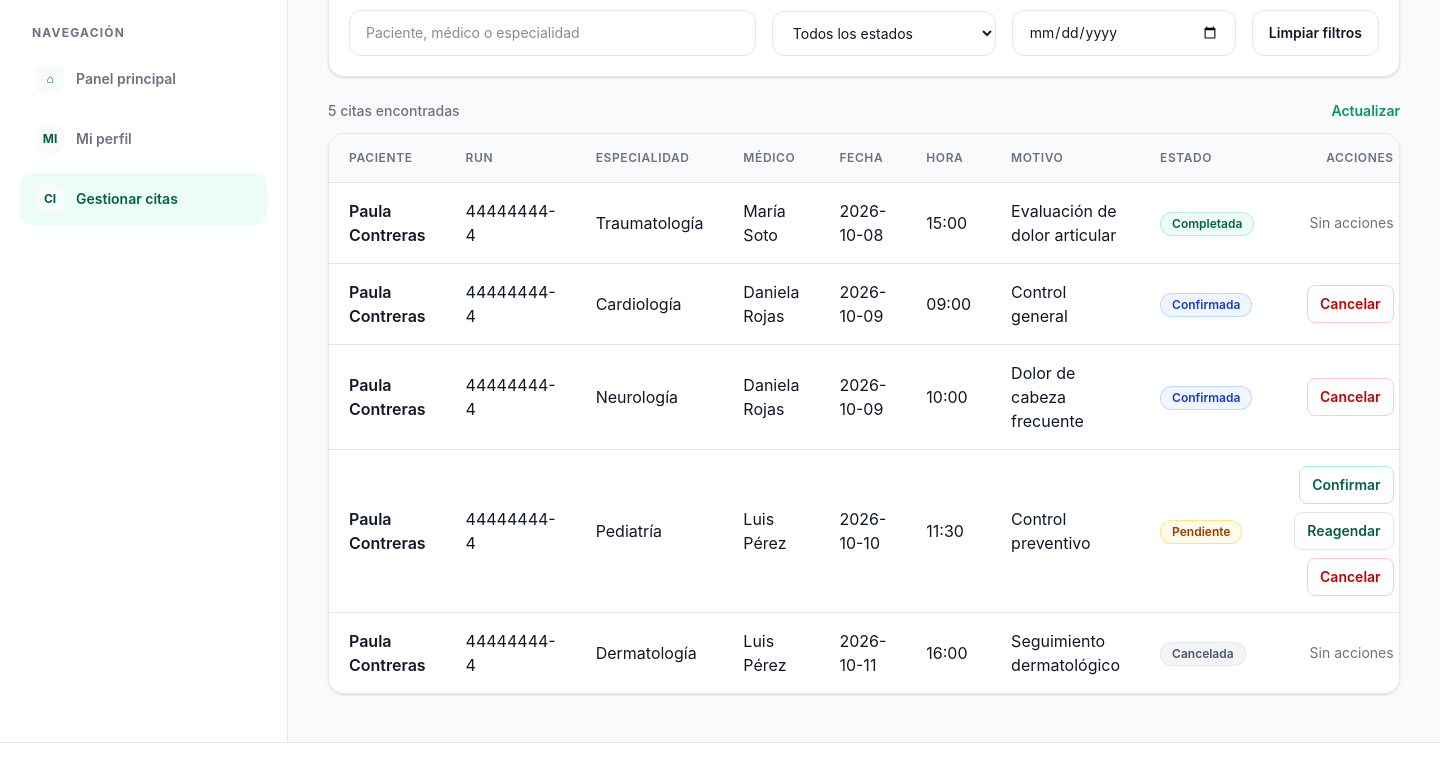
it: Requisitos de citas en las pantallas por rol › CP-094 · RF-20 · recepción confirma una solicitud pendiente
(page scrolled)
Step 1. Click the button "Confirmar" → (1346, 485), box top-left (1299, 466), bottom-right (1394, 504)
(page scrolled)
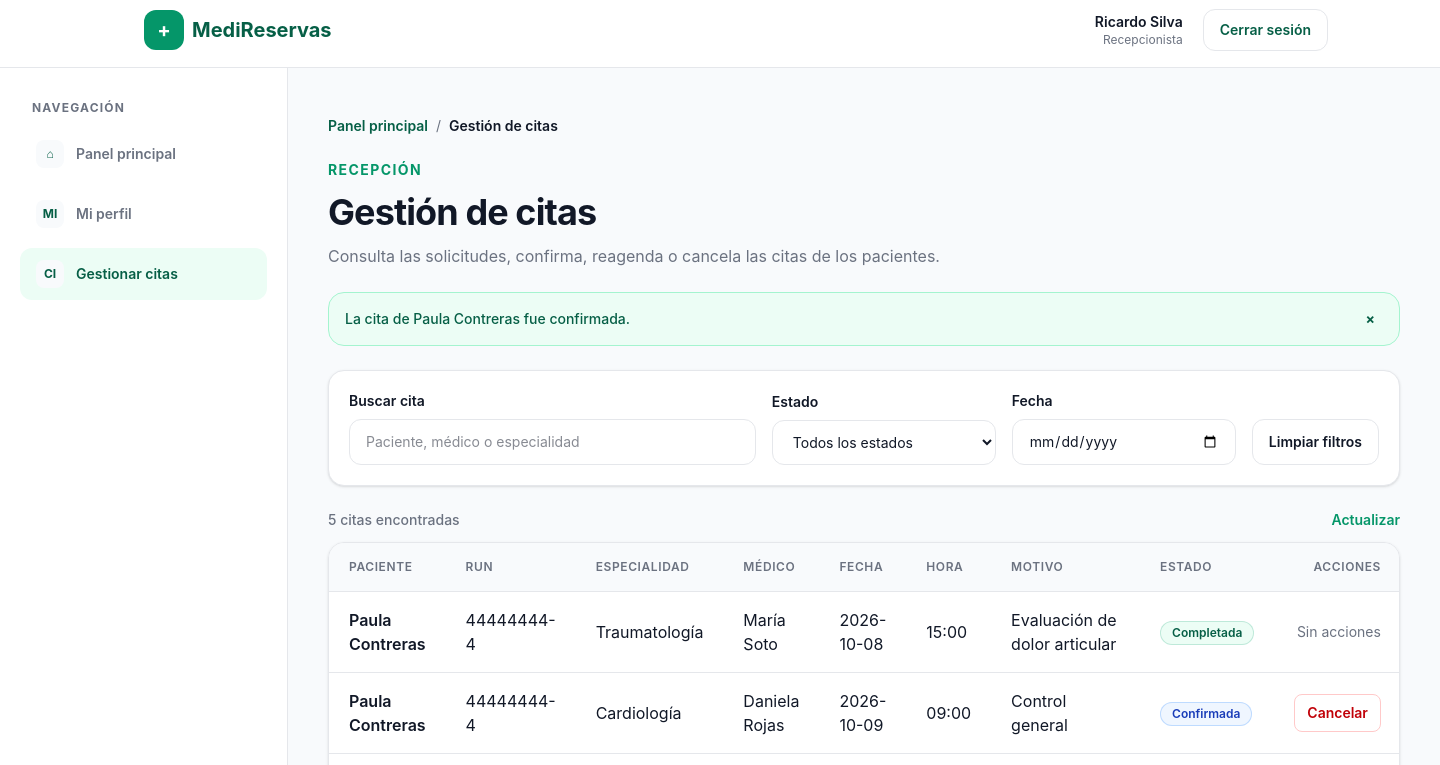
Check: the message shows "fue confirmada", box top-left (345, 310), bottom-right (630, 327)
Step 2. Click the button named "Cerrar mensaje" → (1370, 319), box top-left (1358, 309), bottom-right (1383, 329)
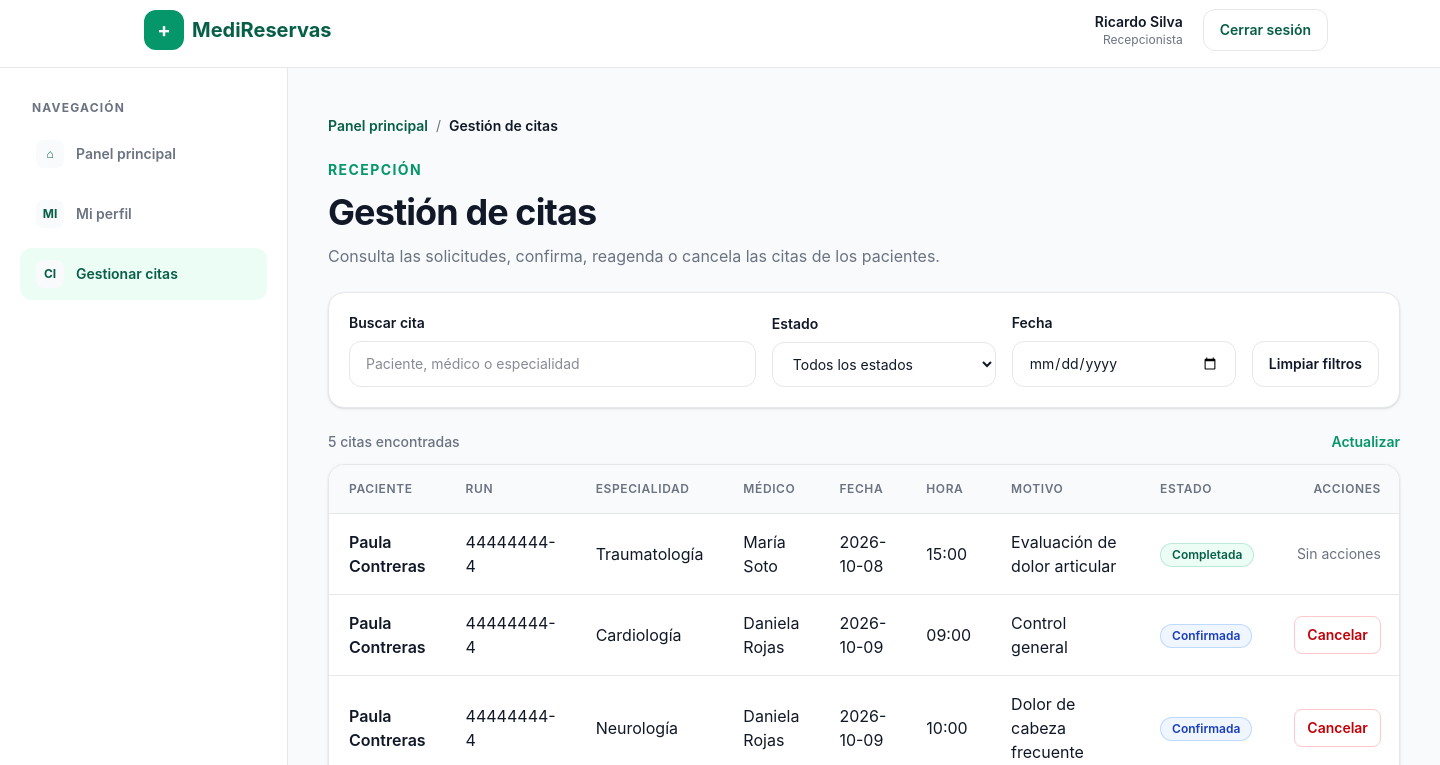
Check: the message "La cita de Paula Contreras fue confirmada. ×" is gone
